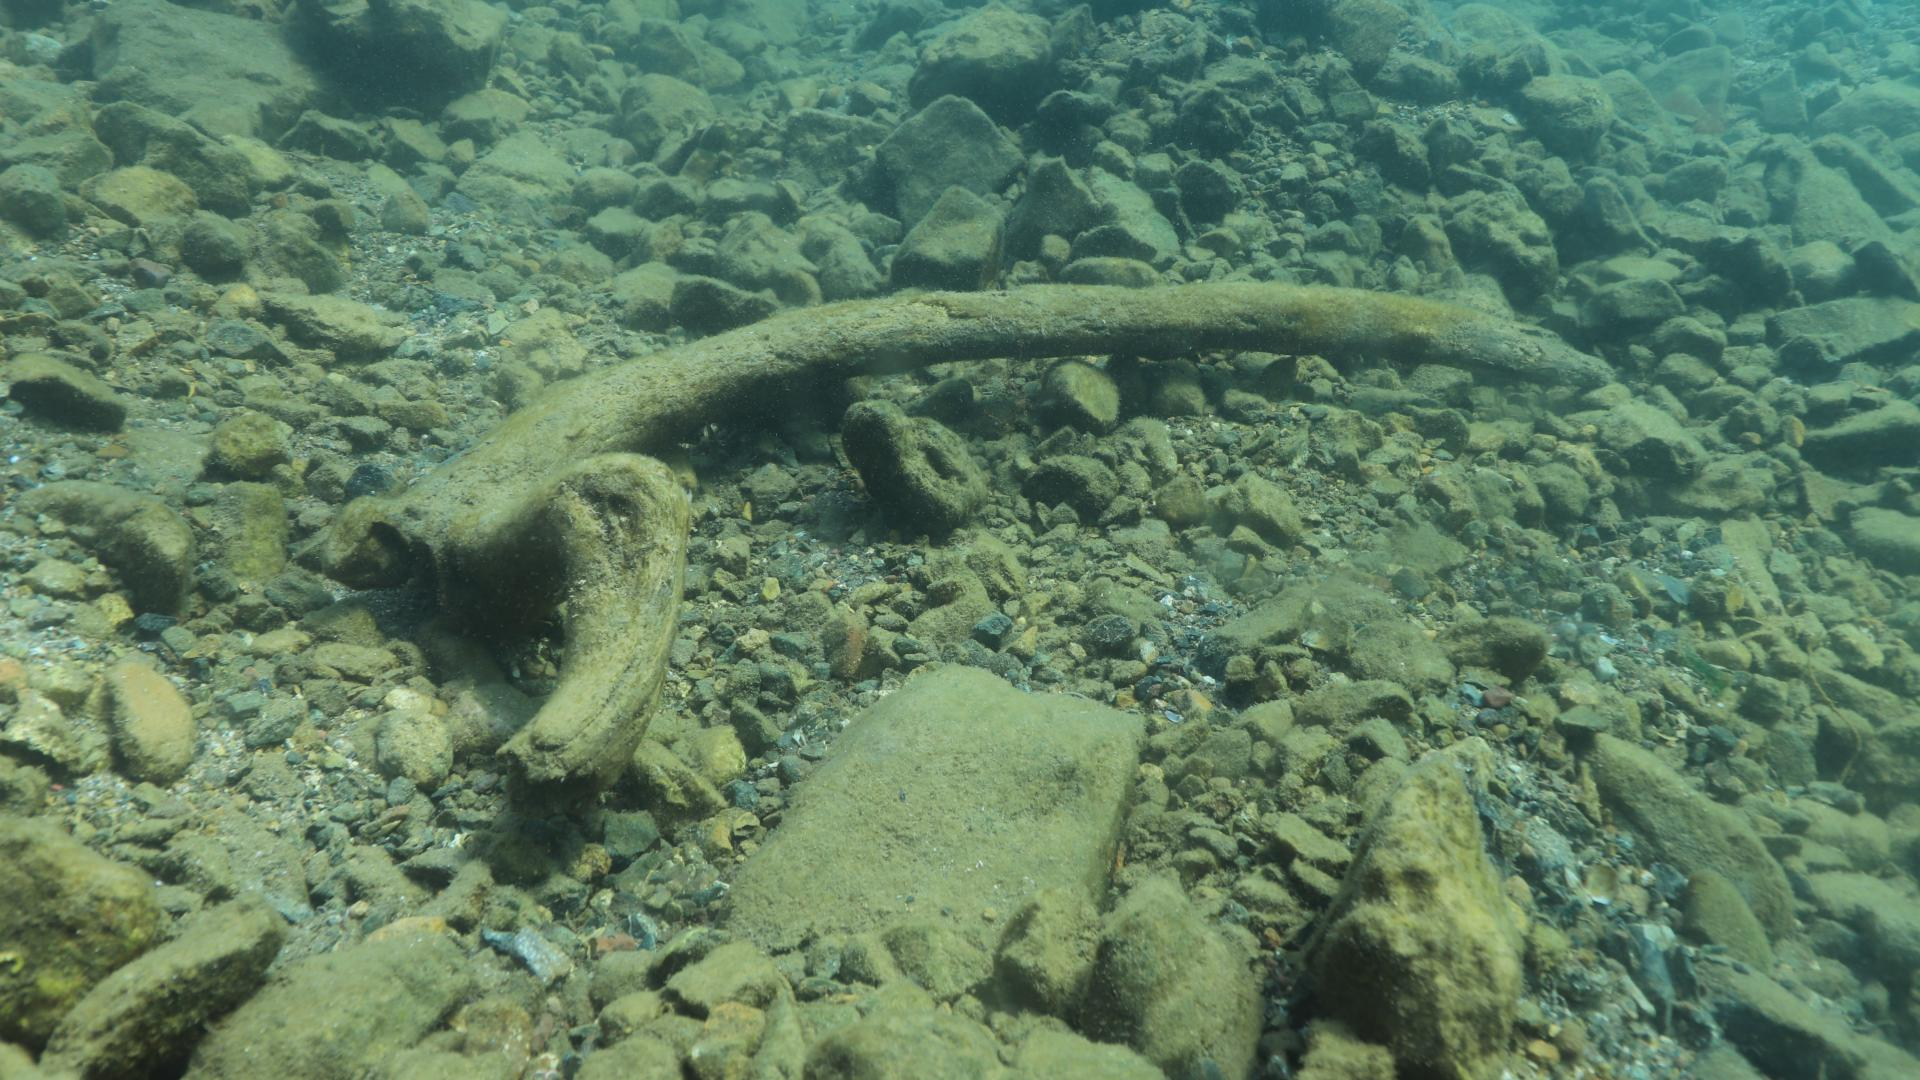wood: (316, 278, 1617, 814)
